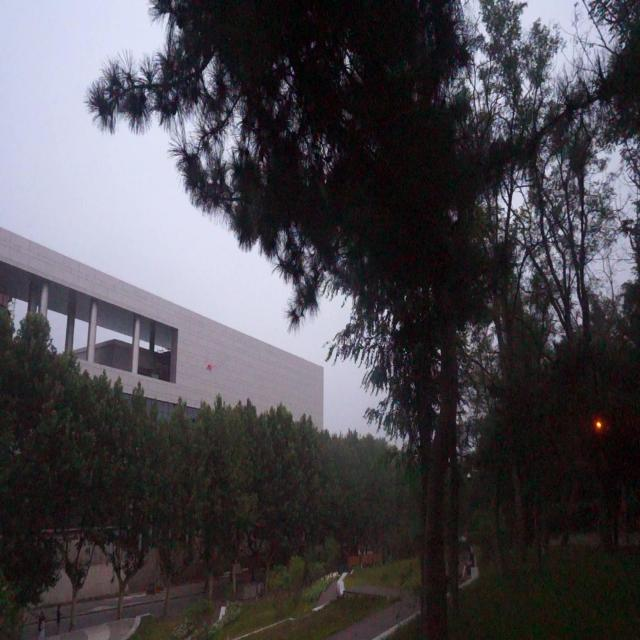UAV: (206, 360, 214, 372)
